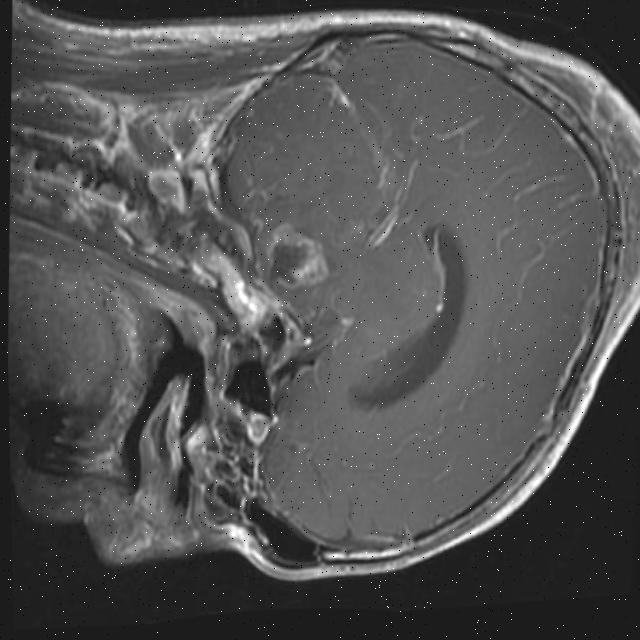Glioma: (261, 218, 334, 296)
